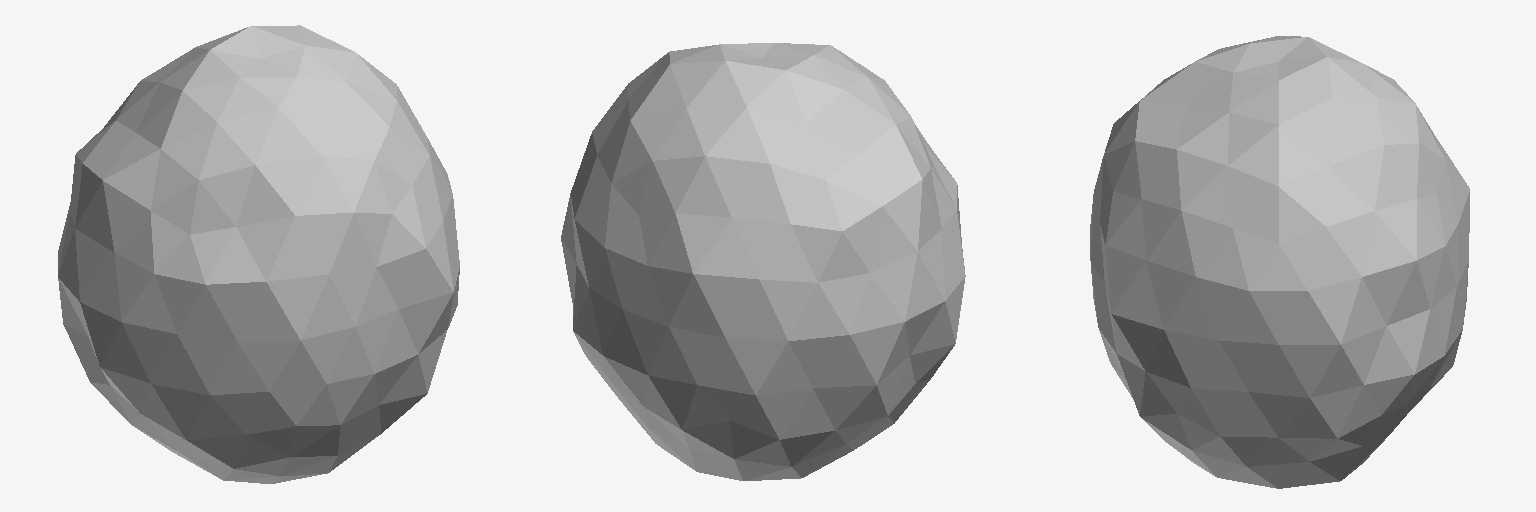
File: asteroid_6.obj
The picture shows the model from 3 angles: view 1: azimuth 30°, elevation 25°; view 2: azimuth 150°, elevation 25°; view 3: azimuth 270°, elevation 25°; orthographic projection.
Parts seen in each view (by area): view 1: Asteroid_6; view 2: Asteroid_6; view 3: Asteroid_6.
Boxes of the visible parts, box(x1,y1,x2,y2) form: Asteroid_6: box(58, 25, 459, 483); Asteroid_6: box(561, 43, 965, 480); Asteroid_6: box(1090, 36, 1469, 488).
Bounding box in the file's own units: 2.07 × 2.33 × 1.93.